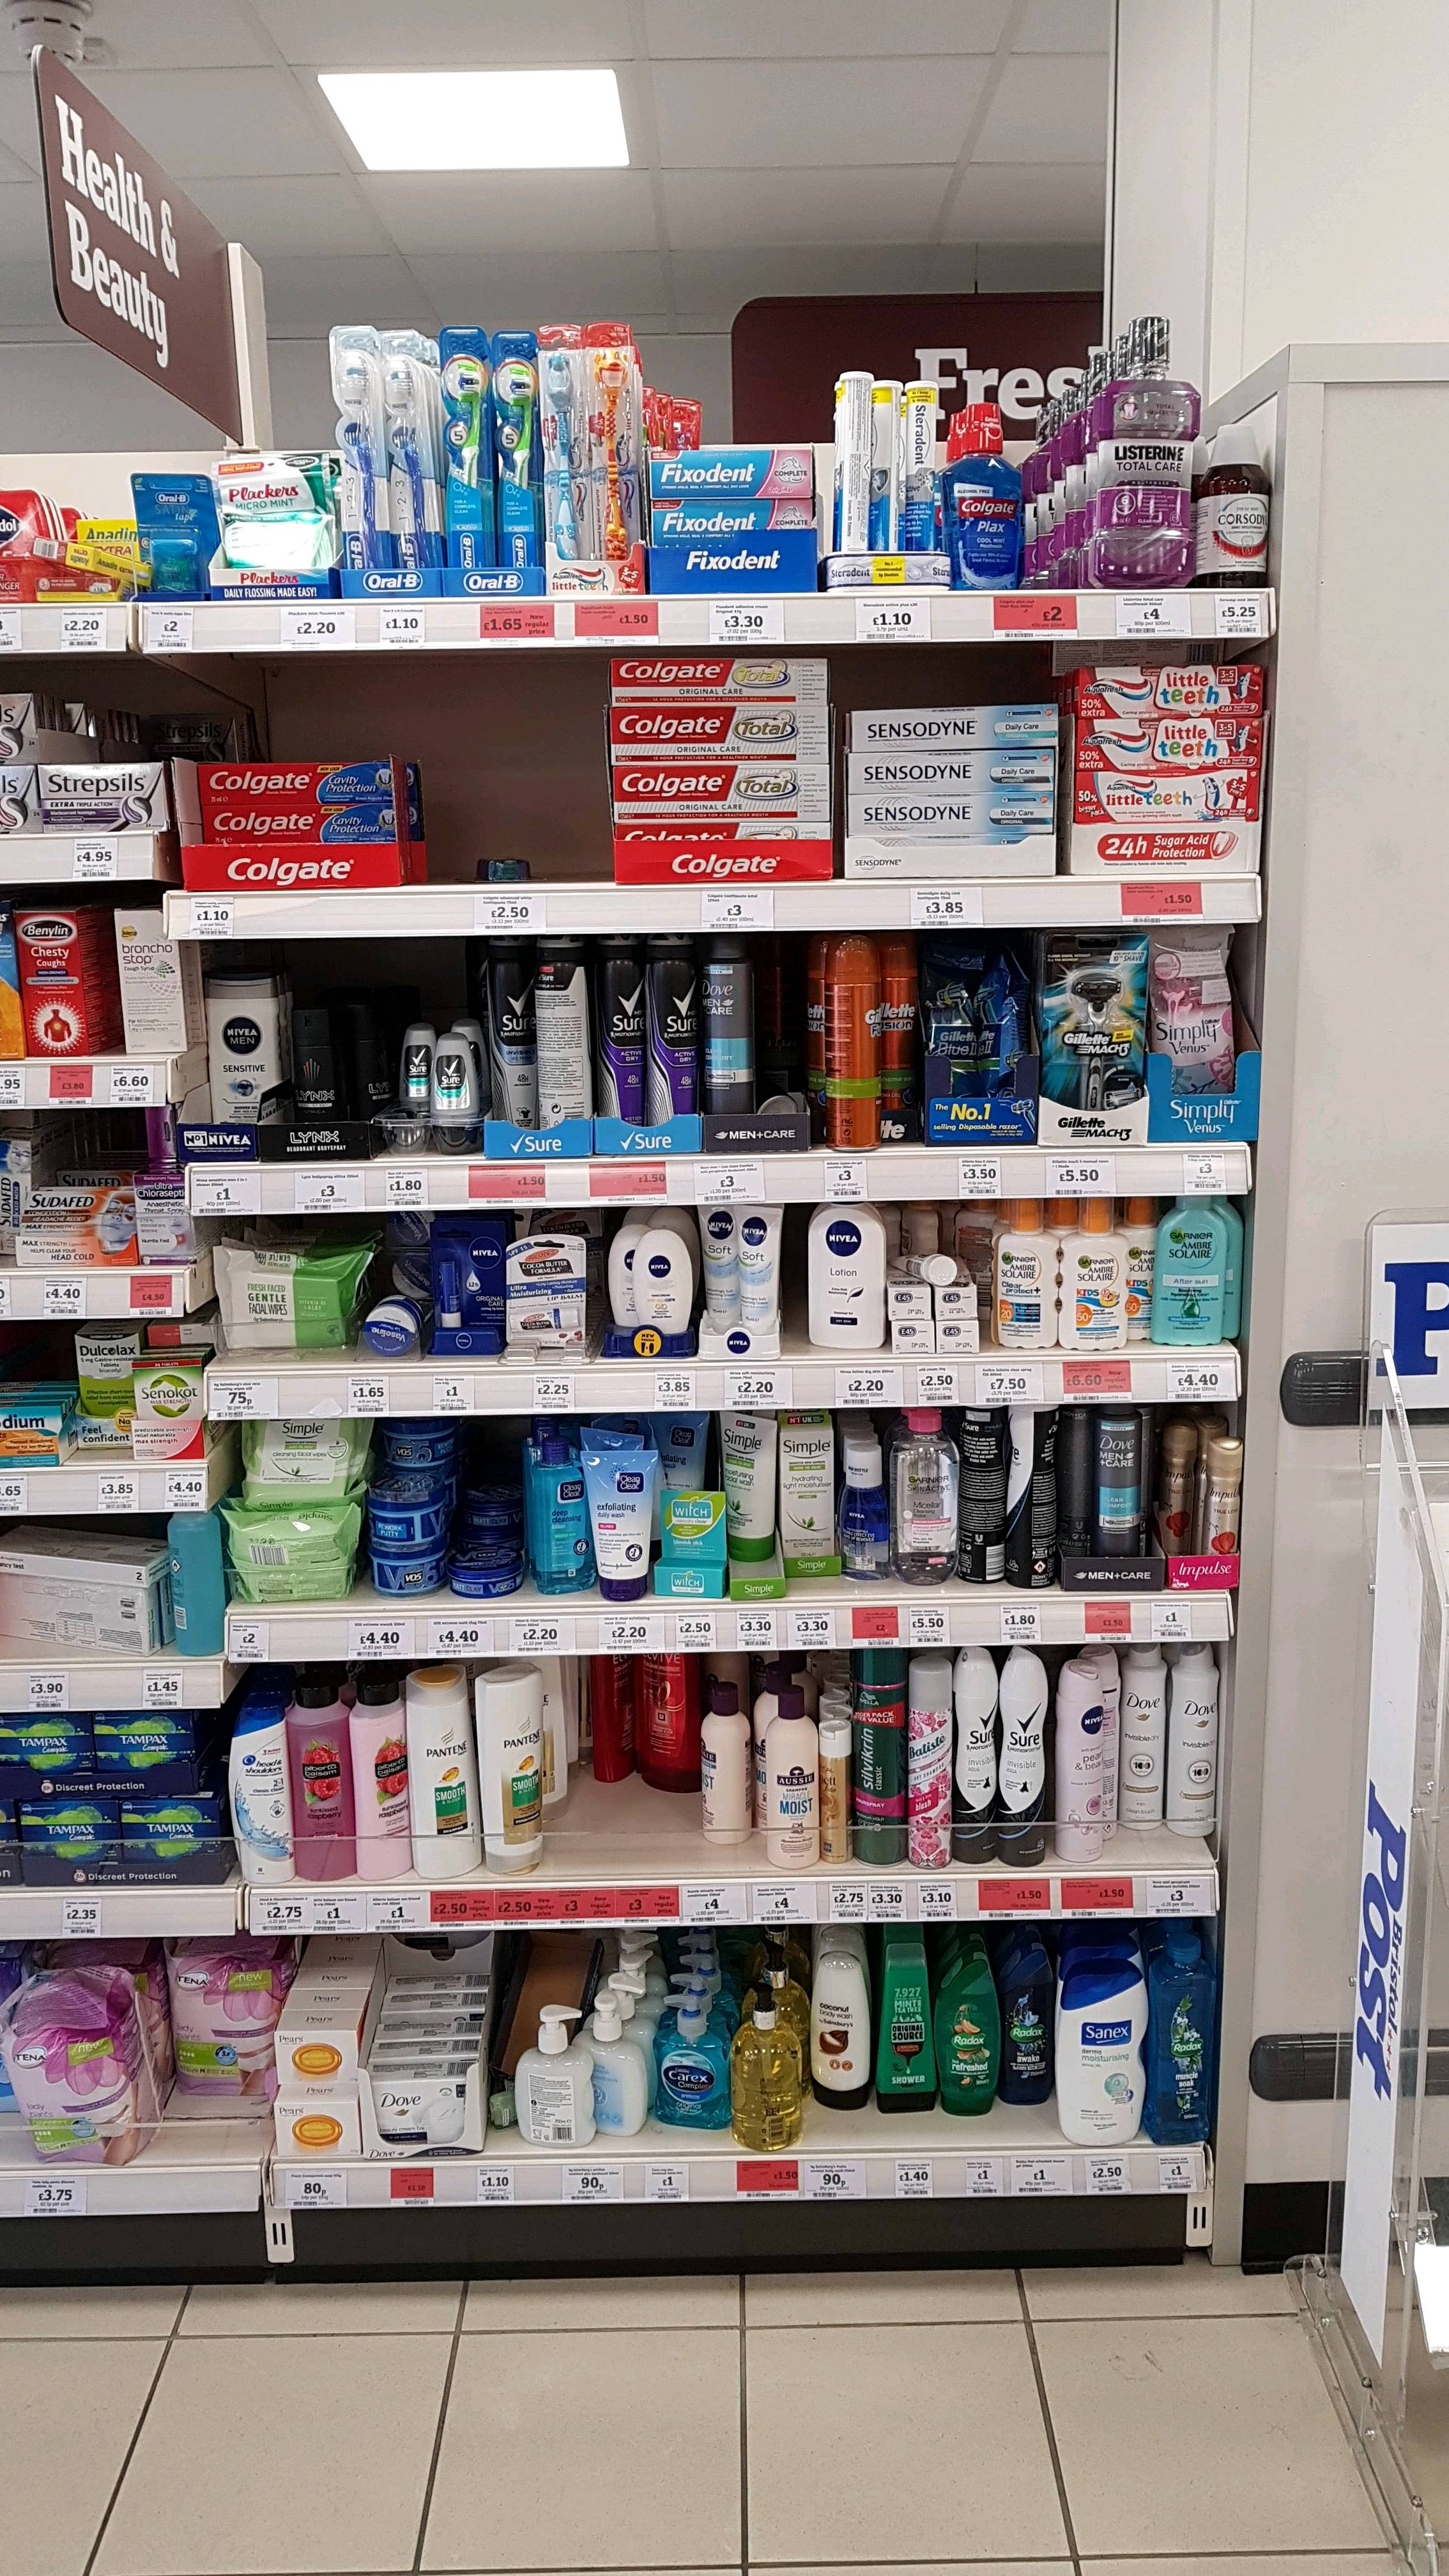Misplacement: (564, 1656, 763, 1872)
